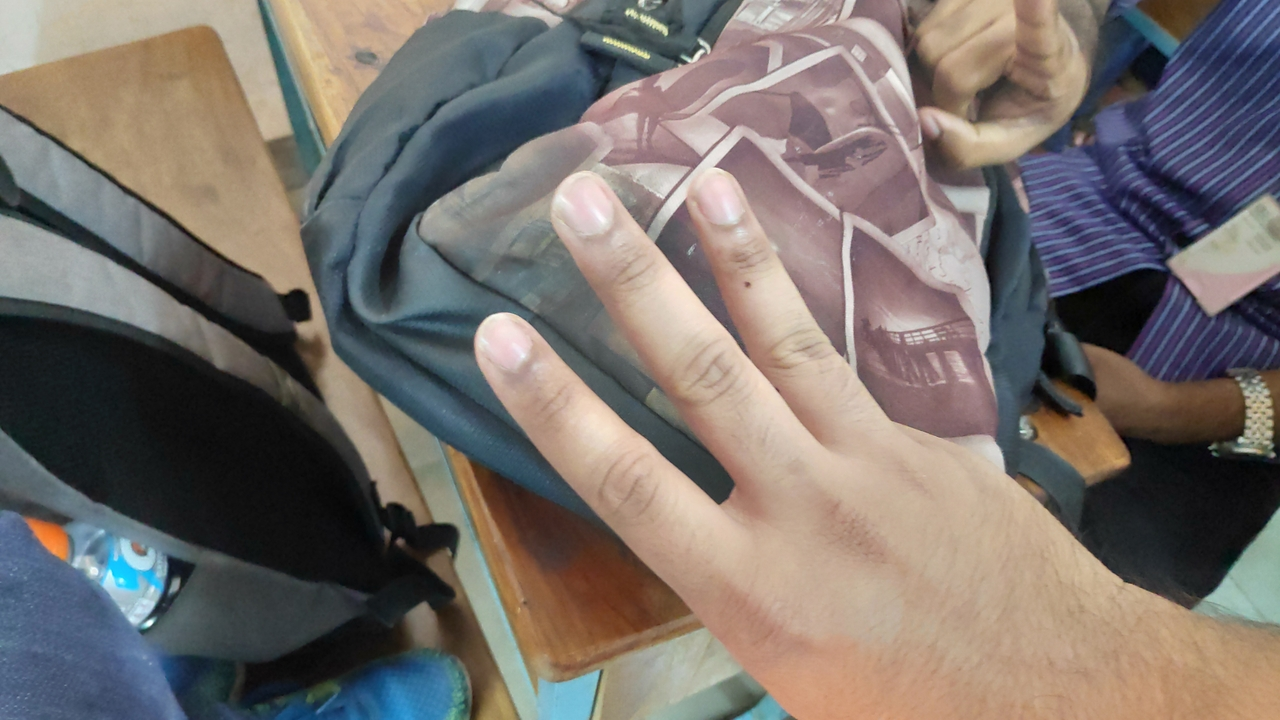fingertip: (462, 308, 546, 382), (686, 164, 756, 244), (556, 167, 625, 246)
